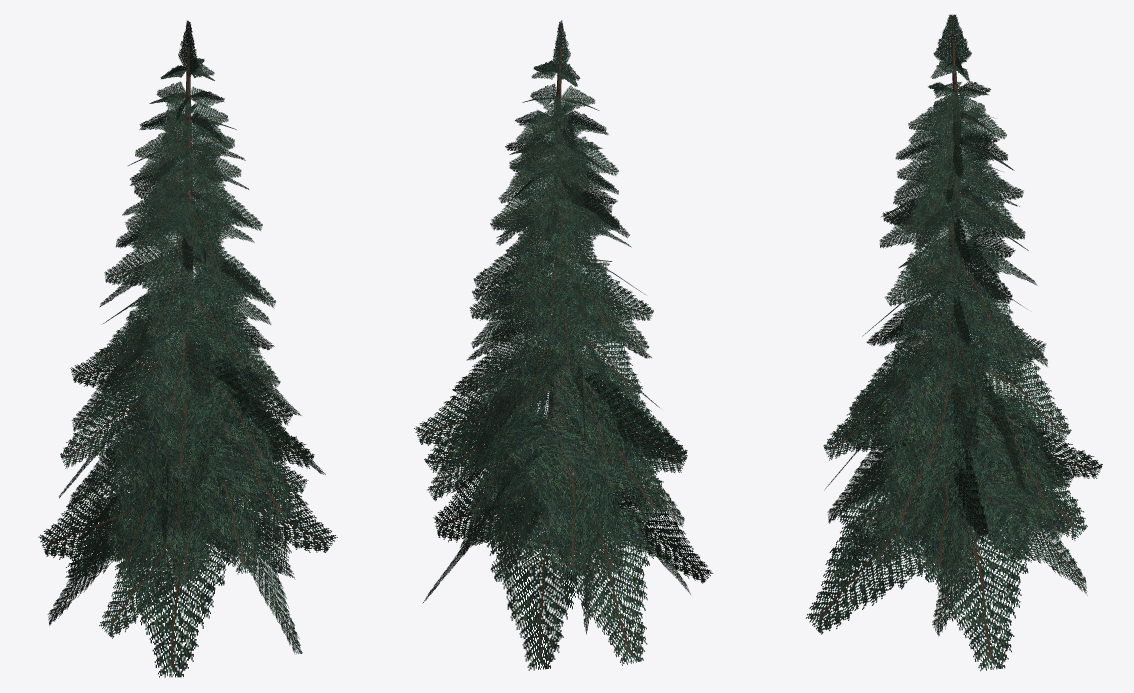
File: TREE_Spruce_02.glb
The picture shows the model from 3 angles, left to right: view 1: azimuth 30°, elevation 25°; view 2: azimuth 150°, elevation 25°; view 3: azimuth 270°, elevation 25°; orthographic projection.
Parts seen in each view (by area): view 1: TREE_Spruce_02; view 2: TREE_Spruce_02; view 3: TREE_Spruce_02.
Part boxes in pixels (<box>): TREE_Spruce_02: <box>38,20,337,677</box>; TREE_Spruce_02: <box>414,20,713,670</box>; TREE_Spruce_02: <box>805,14,1102,671</box>.
Size of the model in its own units: 5.21 by 9.88 by 5.1.
Materials: 2 (2 with a texture image).
